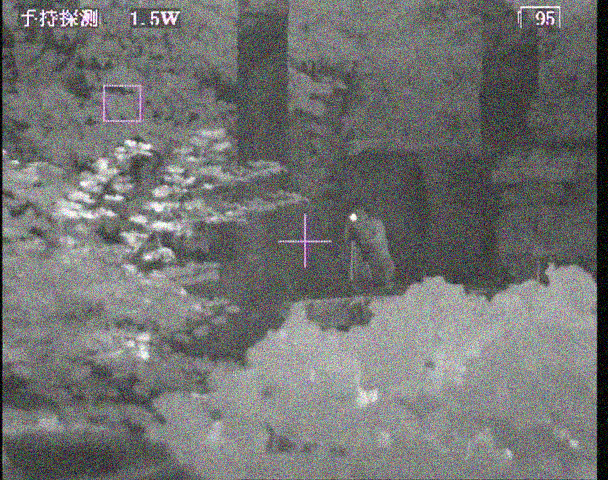my: (348, 212, 358, 224)
